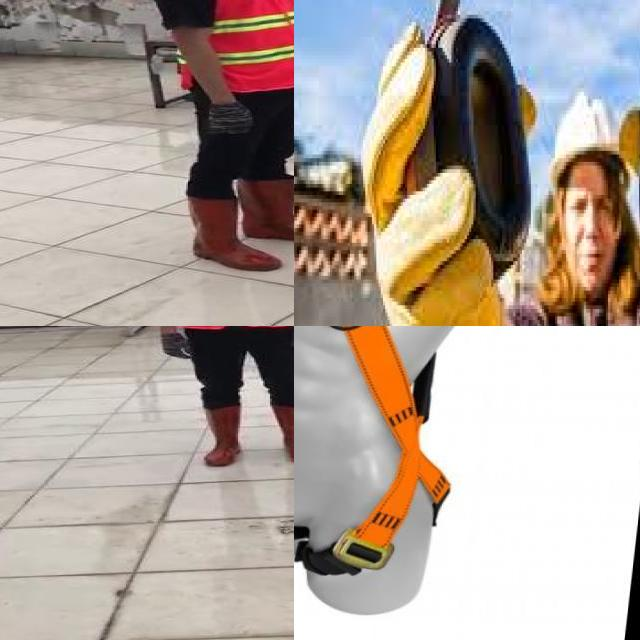Ear-protection: (409, 0, 532, 287)
Harness: (296, 326, 451, 576)
boots: (174, 191, 284, 274), (237, 172, 294, 248), (200, 405, 248, 466), (268, 403, 294, 464)
hand_glove: (360, 38, 511, 326), (202, 103, 258, 137), (156, 335, 192, 361)
head_helmet: (542, 77, 630, 166)
person: (369, 15, 640, 326), (143, 0, 294, 273), (137, 326, 294, 467)
vest: (156, 0, 294, 92)
